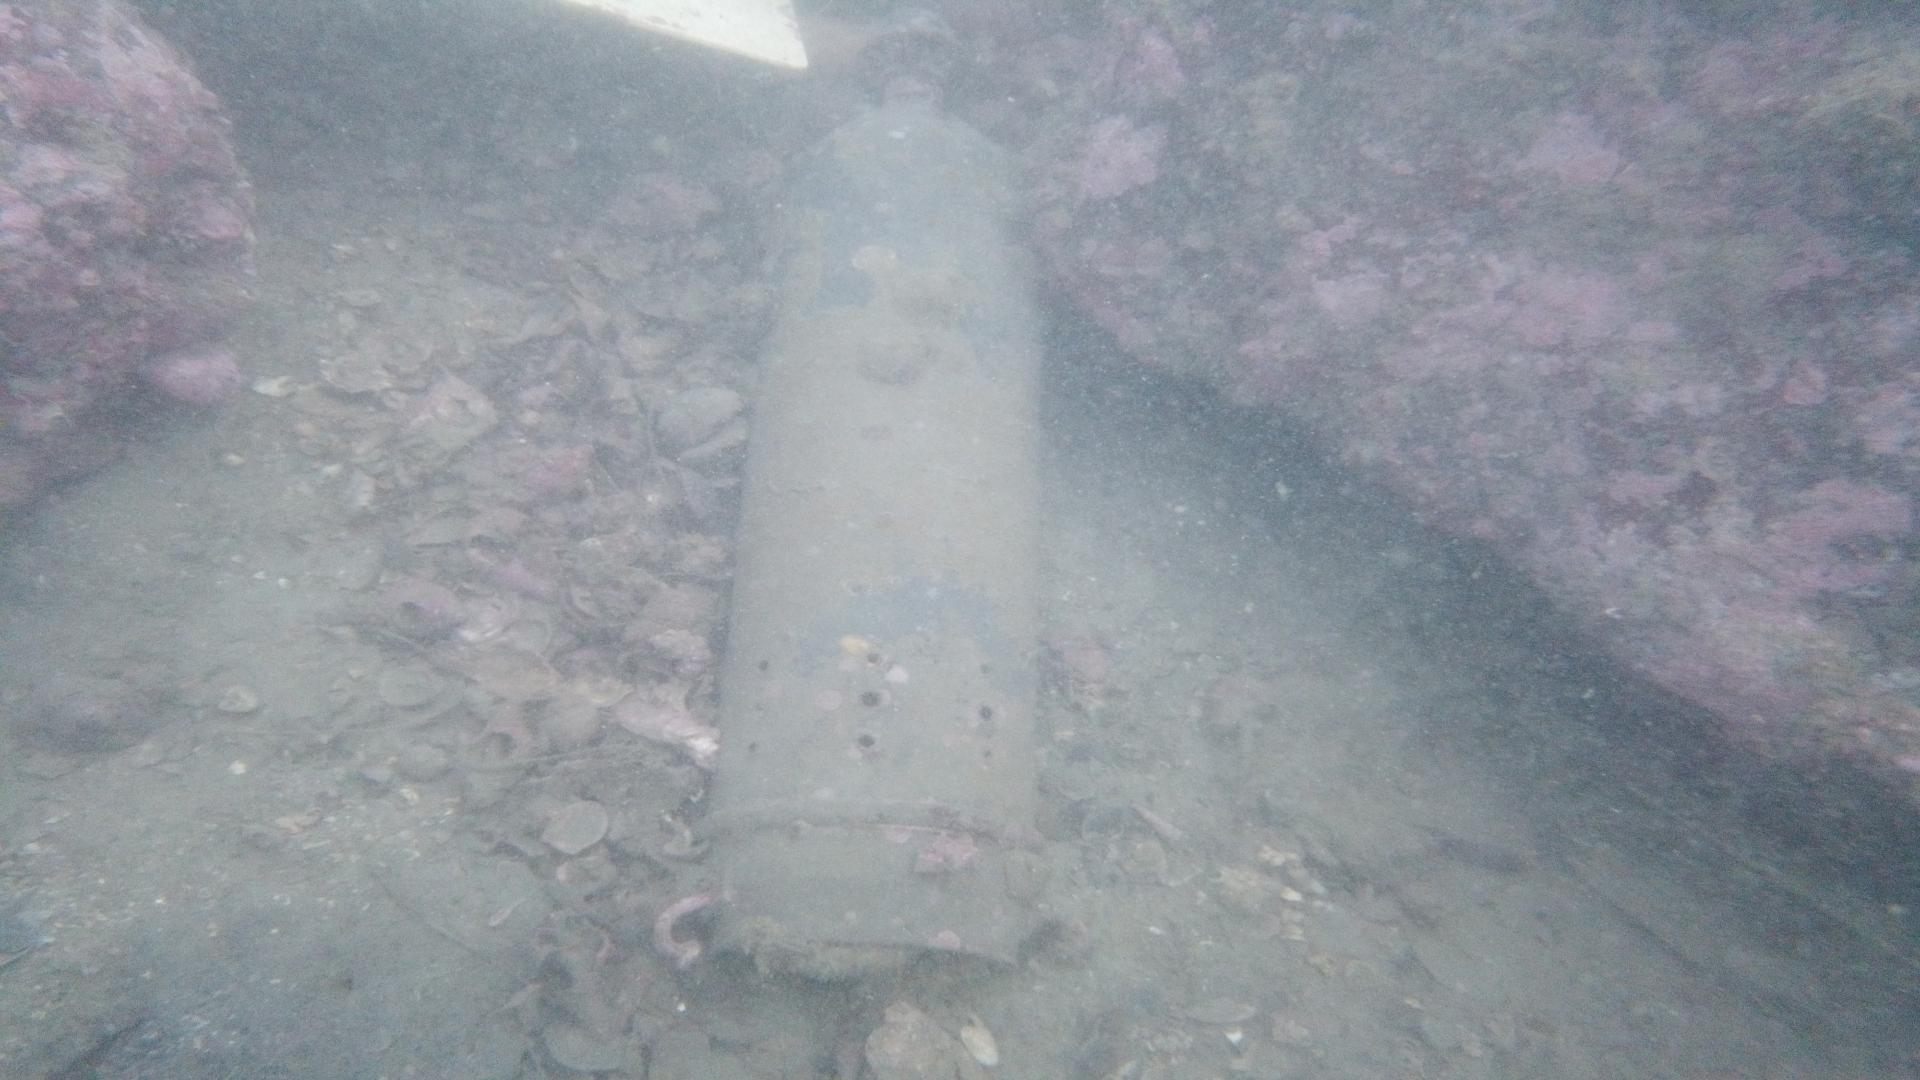eel fish trap: (692, 7, 1059, 982)
